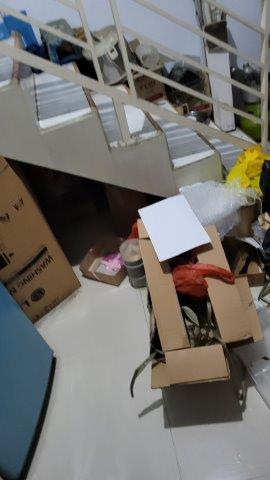kertas: (136, 193, 214, 265)
